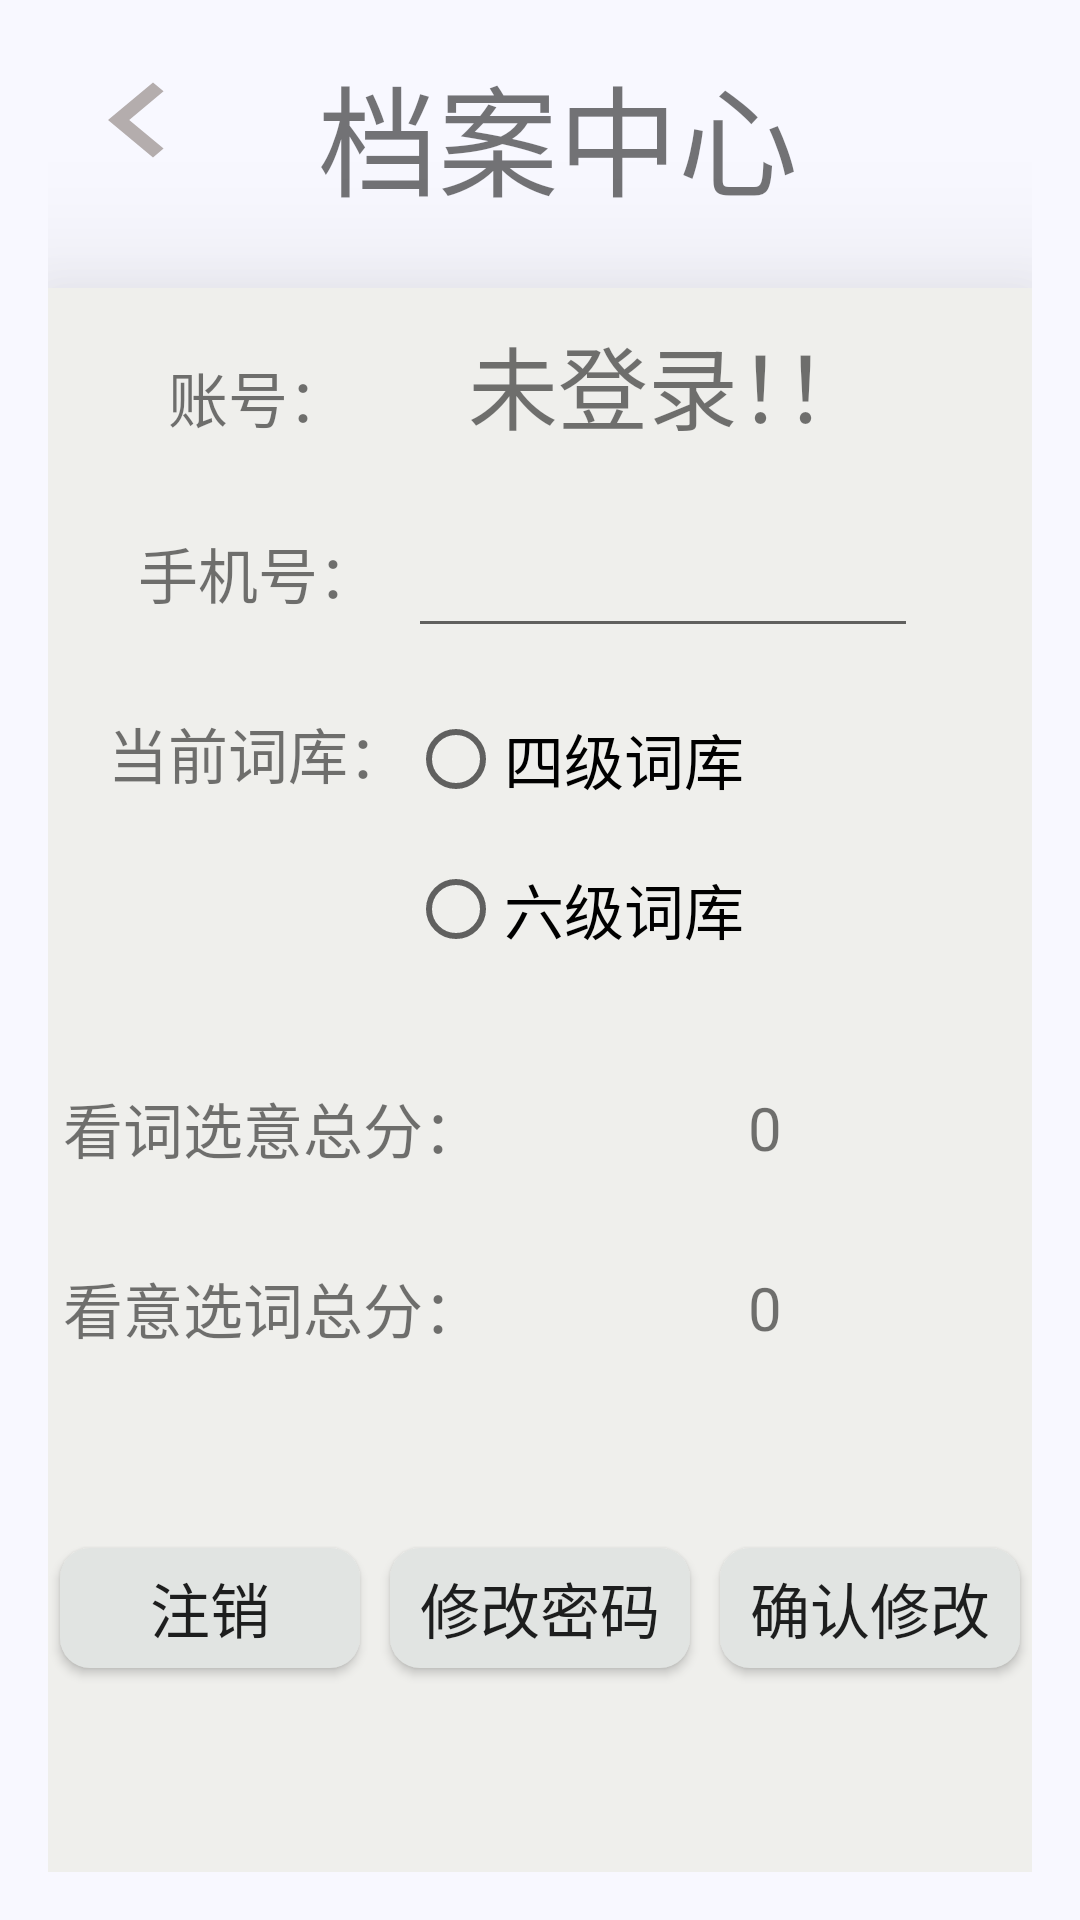

Screen size 1080px x 1920px. Icon name, then its center in pixels as (x=x, y=y):
keyboard arrow left: (x=135, y=120)
